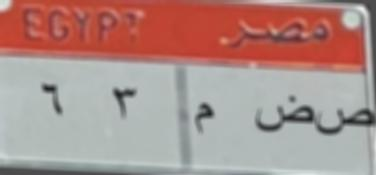3: (108, 81, 142, 128)
6: (36, 78, 68, 122)
daad: (251, 94, 314, 142)
meem: (191, 96, 216, 142)
saad: (316, 100, 376, 142)
